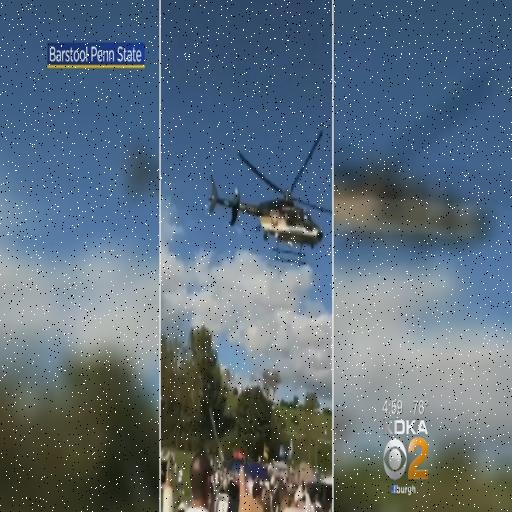helicopter: (205, 132, 333, 265)
